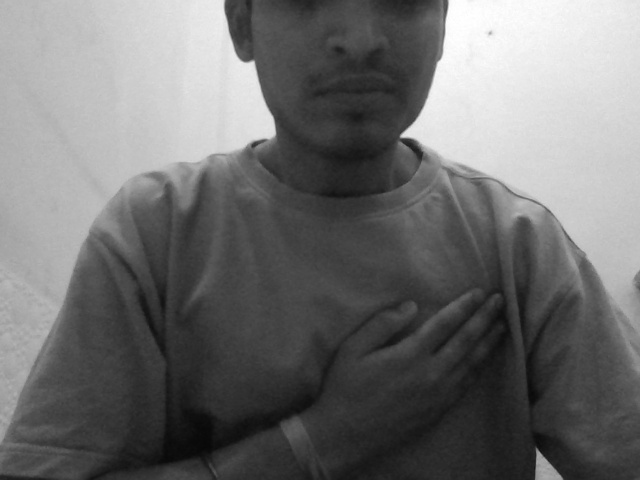Sorry: (278, 276, 544, 455)
